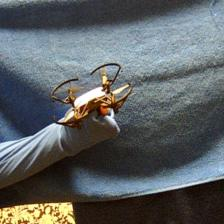drone: (47, 60, 131, 124)
